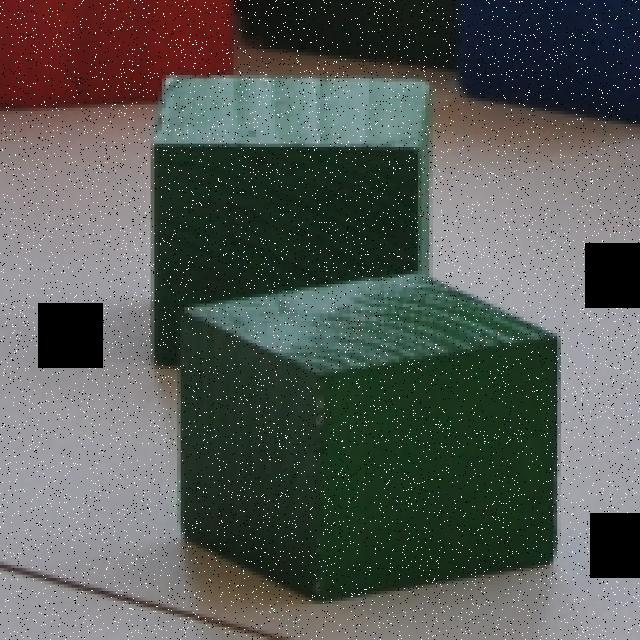bluecube: (456, 1, 640, 126)
green cube: (178, 265, 553, 606), (146, 80, 428, 370)
red cube: (0, 0, 235, 107)
